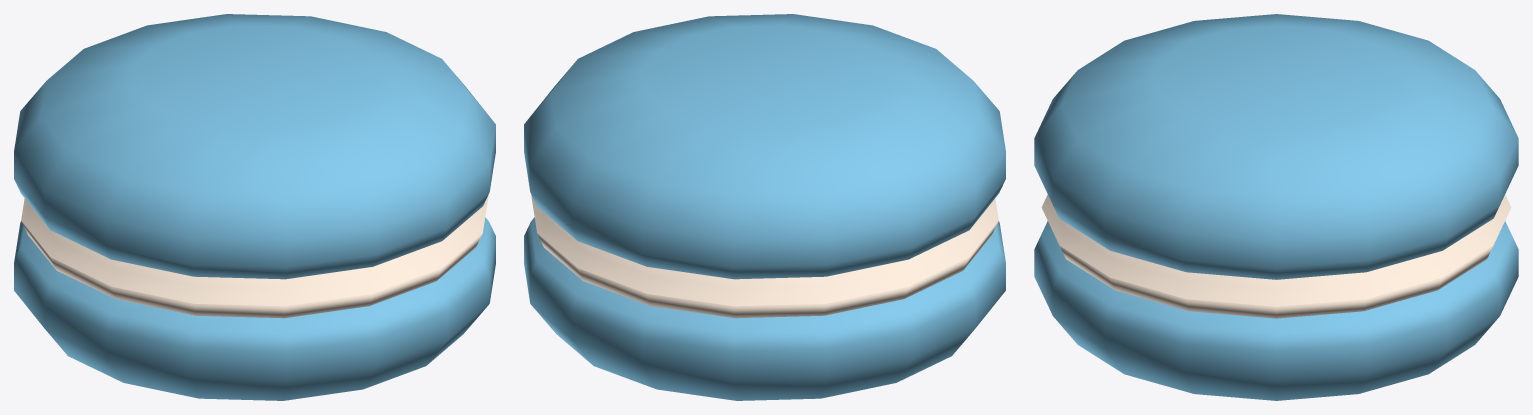
Rendered from SM_macaron_01.glb.
The picture shows the model from 3 angles, left to right: view 1: azimuth 30°, elevation 25°; view 2: azimuth 150°, elevation 25°; view 3: azimuth 270°, elevation 25°; orthographic projection.
Visible parts, largest first — view 1: SM_macaron_01; view 2: SM_macaron_01; view 3: SM_macaron_01.
Part boxes in pixels (box(x1,y1,x2,y2)): SM_macaron_01: box(14, 14, 495, 400); SM_macaron_01: box(524, 14, 1005, 400); SM_macaron_01: box(1034, 14, 1518, 400).
Size of the model in its own units: 0.0906 by 0.0532 by 0.0906.
Materials: 1 (1 with a texture image).
